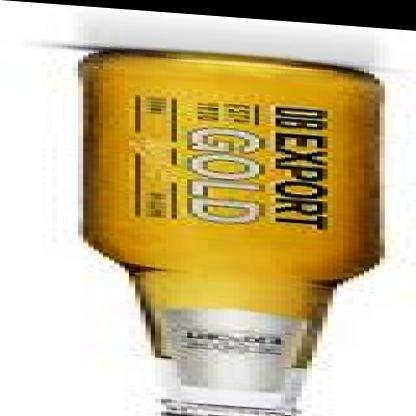trash: (81, 50, 382, 414)
